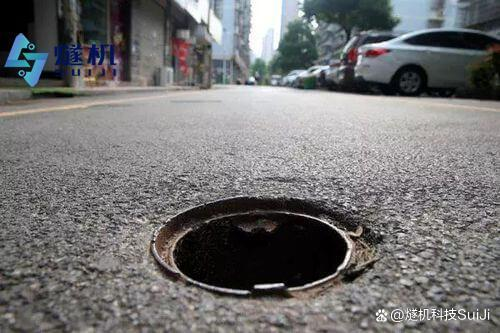lose: (148, 189, 386, 305)
